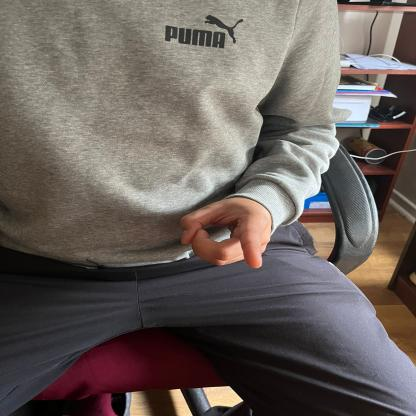X: (183, 189, 278, 276)
